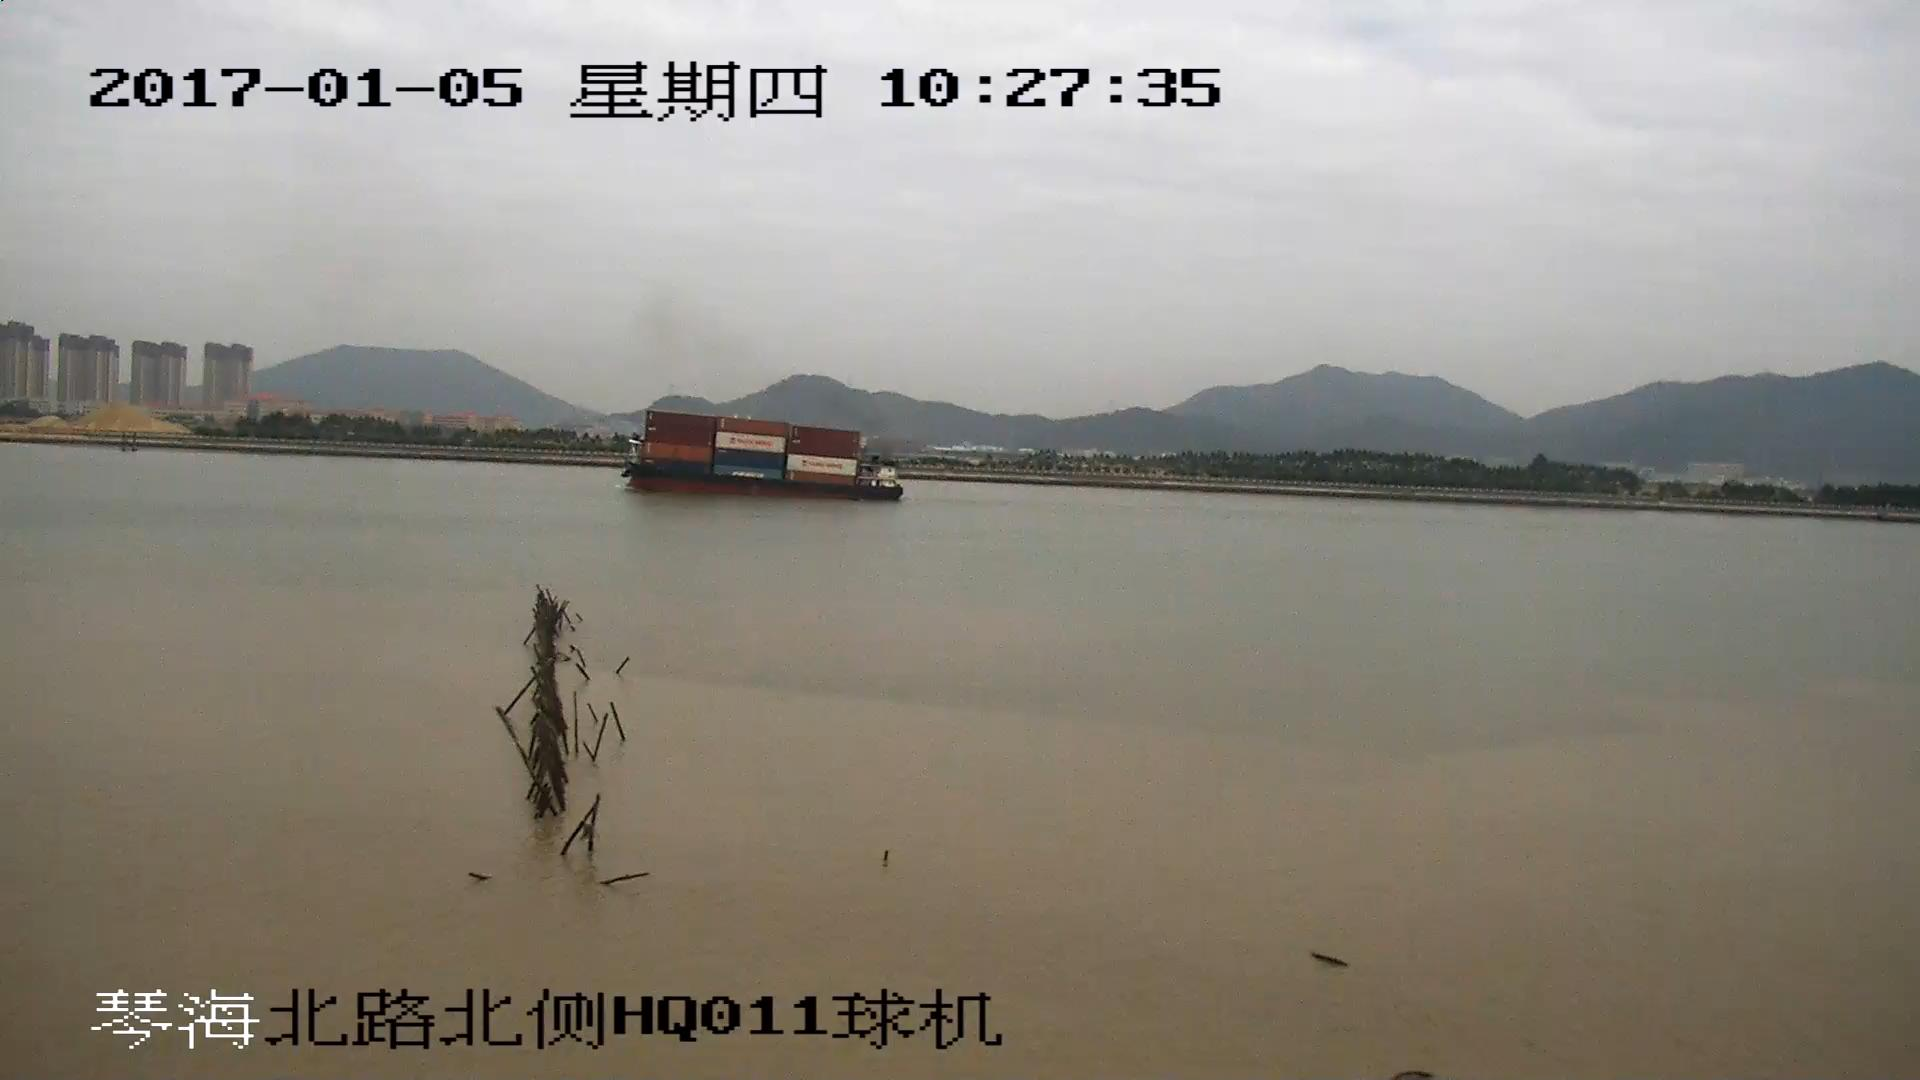container ship: (620, 411, 903, 503)
